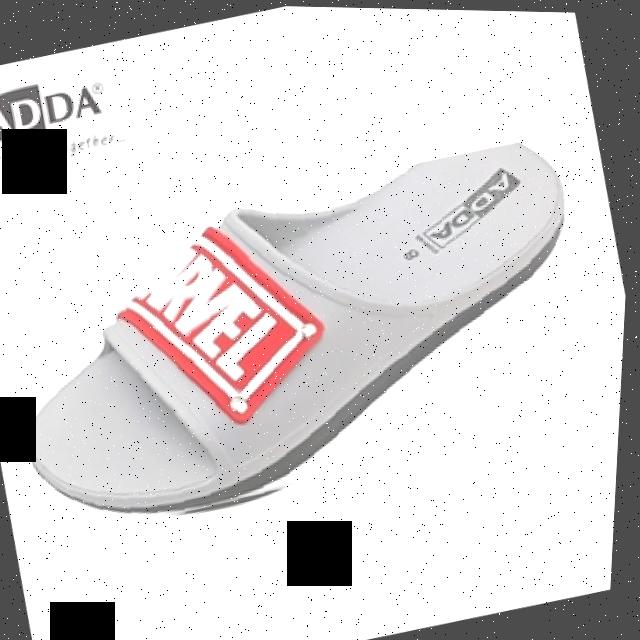shoe: (0, 120, 631, 555)
